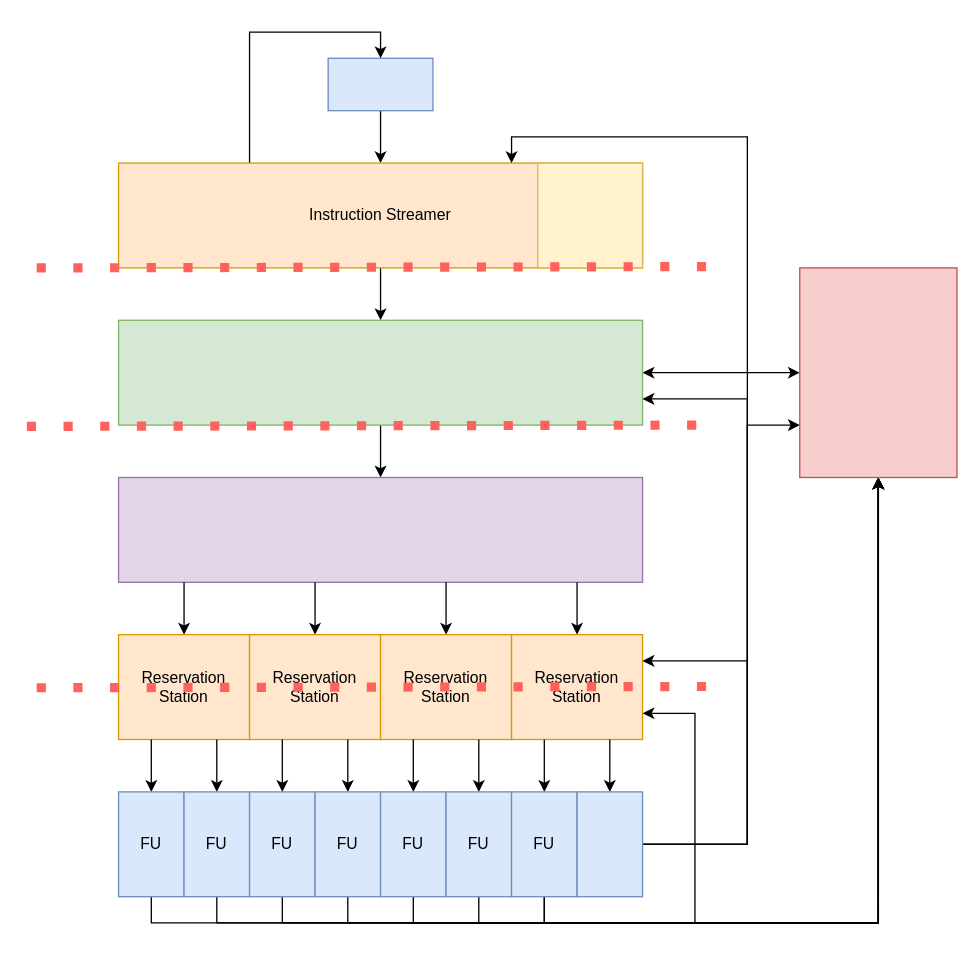
The diagram is 980 pixels wide and 956 high, and some of its shapes have lost their labels. The shapes that lost their labels are listed below. From the top down, each one's box as (x1, y1, x2, y2) in pixels, then its label:
(327, 57, 433, 111): PC
(536, 162, 643, 268): I$
(117, 319, 643, 425): Decoding & Register Renaming
(798, 267, 957, 477): ROB
(117, 476, 643, 582): Functional Unit Router
(576, 791, 643, 897): Branch Unit
